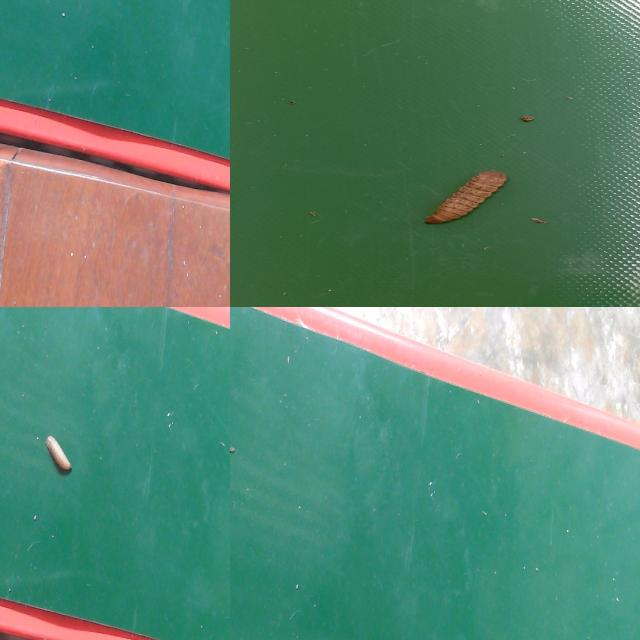Maggot: (425, 171, 507, 227), (44, 436, 72, 478)
